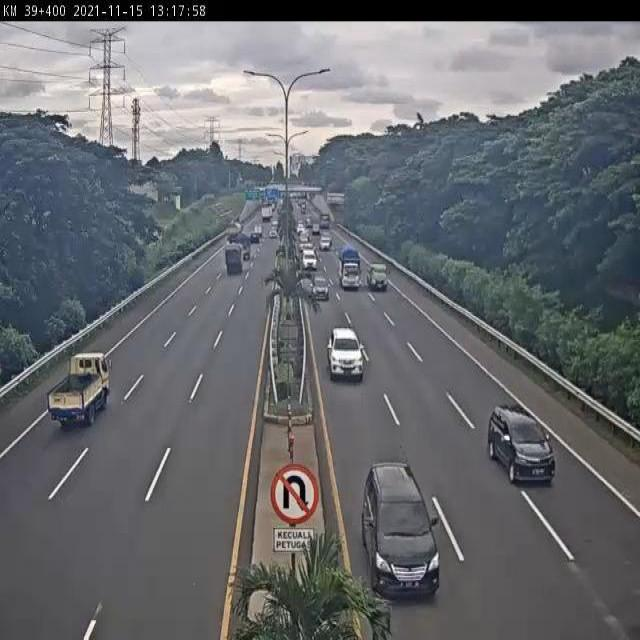car: (359, 463, 443, 597), (487, 403, 557, 485), (326, 325, 366, 380), (312, 275, 330, 301)
truck-m-: (338, 244, 362, 292), (225, 244, 242, 277)
truck-s-: (46, 350, 113, 430), (366, 262, 389, 294)
